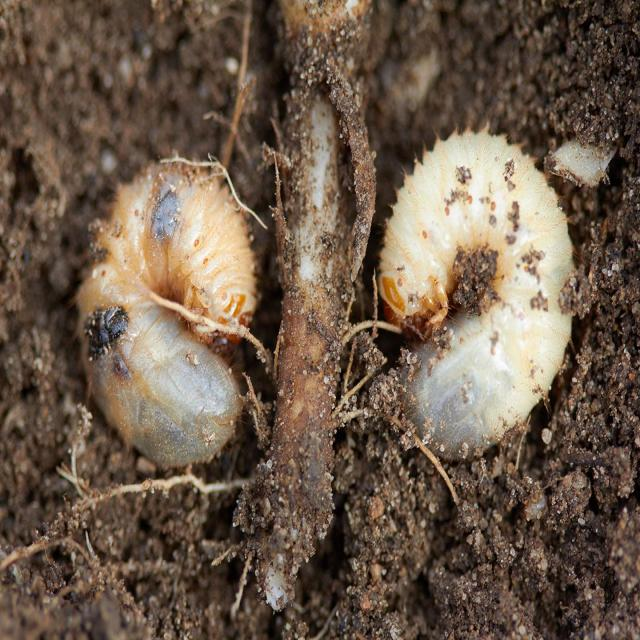Grub-Adult-: (342, 90, 584, 490), (53, 132, 268, 489)
